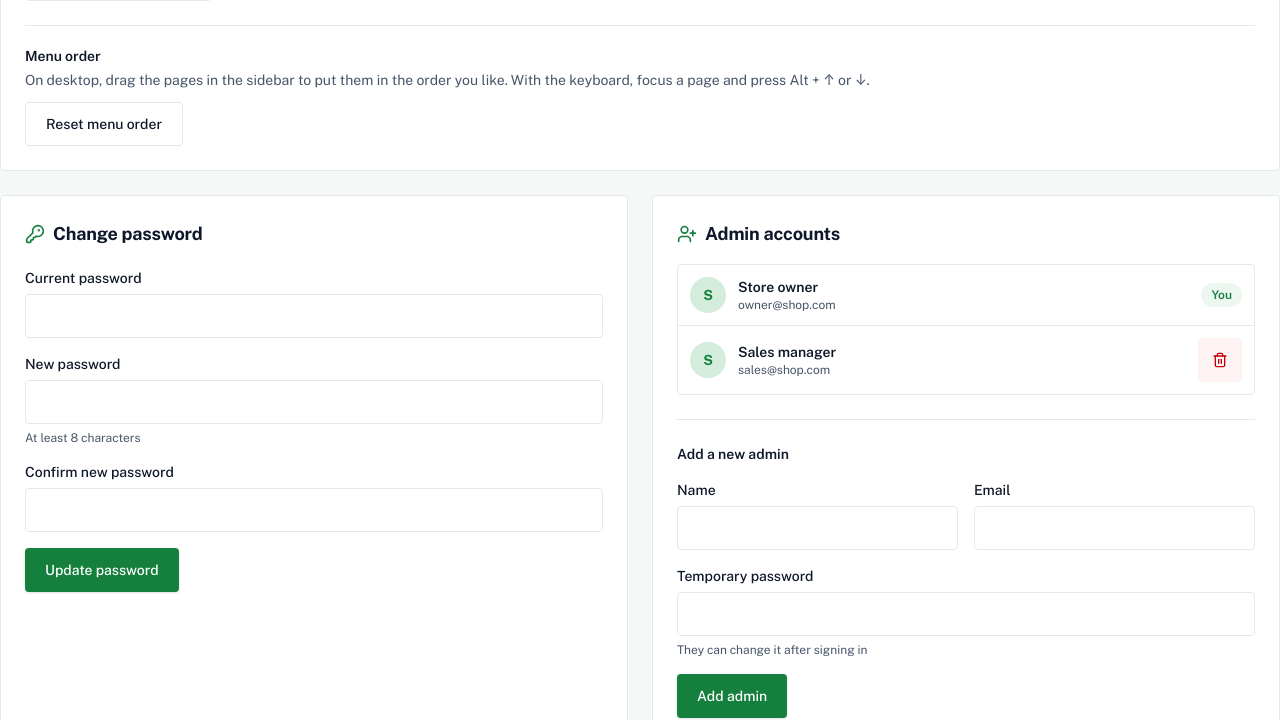
<SettingsAdmin /> admin accounts › removes another admin
(page scrolled)
Click the button named "Remove Sales manager" at (1220, 360), box [1198,338,1242,382]
(page scrolled)
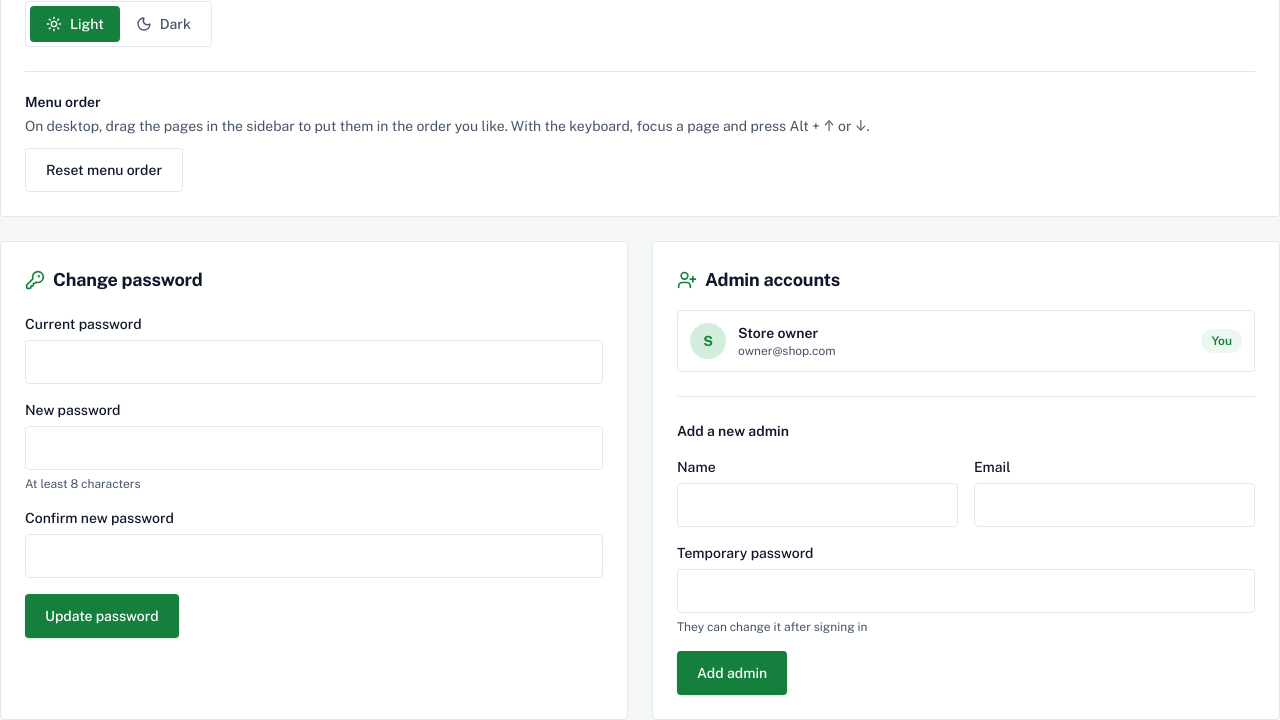
Check: the text "owner@shop.com" is shown, box [738,344,836,358]
Check: the text "sales@shop.com" is gone
